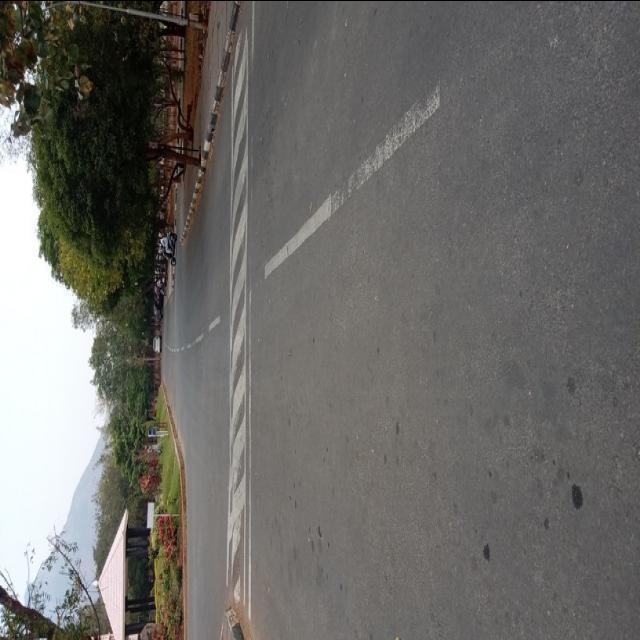speedbreaker: (222, 2, 254, 620)
